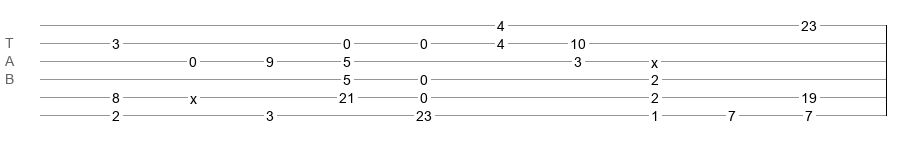0: (189, 54, 197, 64), (343, 36, 351, 46), (420, 90, 428, 100), (420, 36, 428, 46), (420, 72, 428, 82)
1: (651, 108, 659, 118)
10: (570, 36, 586, 46)
19: (801, 90, 817, 100)
2: (112, 108, 120, 118), (651, 90, 659, 100), (651, 72, 659, 82)
21: (339, 90, 355, 100)
23: (416, 108, 432, 118), (801, 18, 817, 28)
3: (112, 36, 120, 46), (266, 108, 274, 118), (574, 54, 582, 64)
4: (497, 36, 505, 46), (497, 18, 505, 28)
5: (343, 54, 351, 64), (343, 72, 351, 82)
7: (728, 108, 736, 118), (805, 108, 813, 118)
8: (112, 90, 120, 100)
9: (266, 54, 274, 64)
x: (190, 91, 197, 99), (651, 55, 658, 63)
